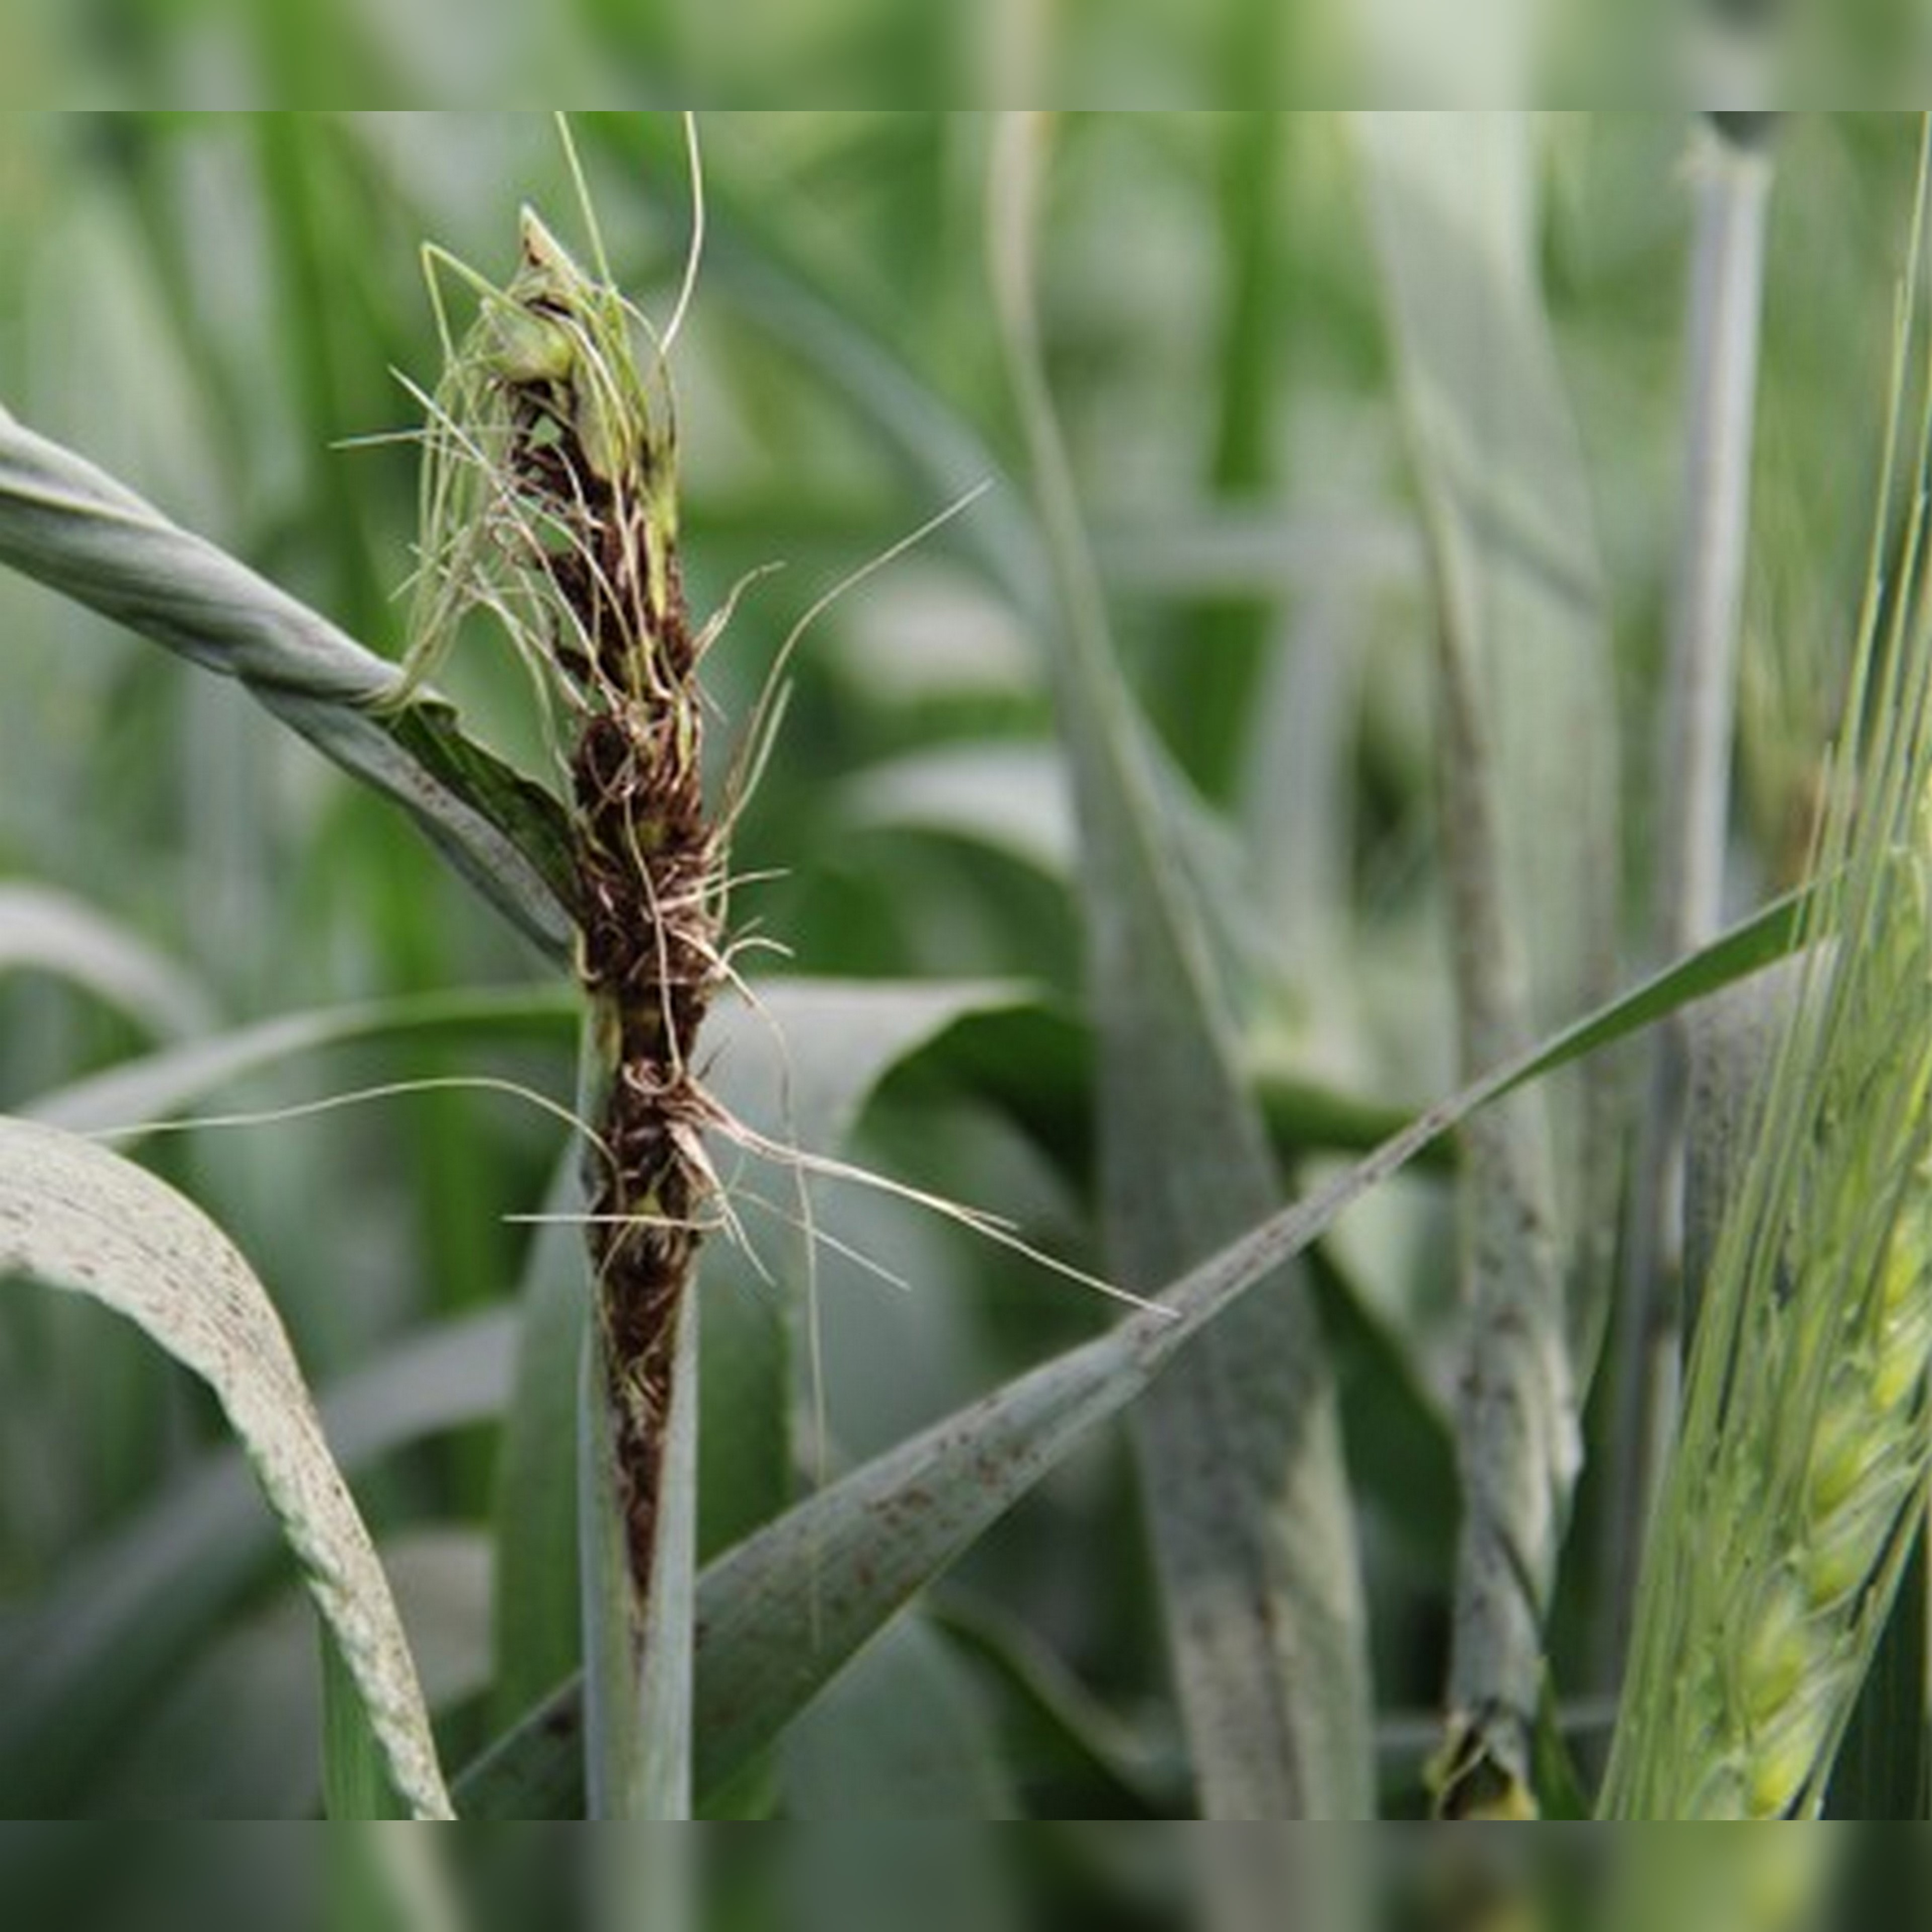Wheat Loose Smut: (384, 223, 773, 1246)
